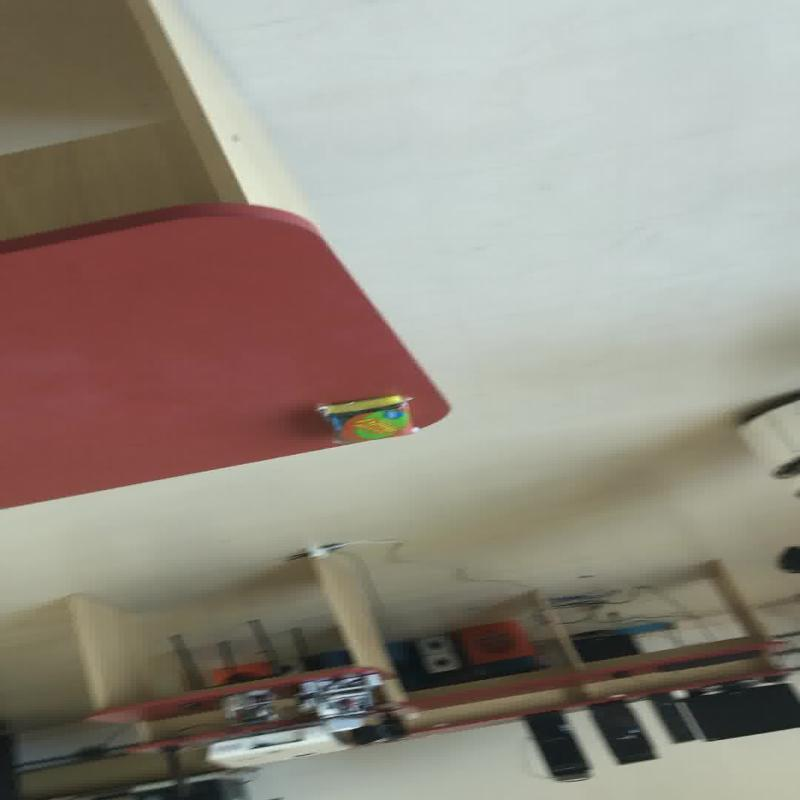sponge: (1, 200, 451, 508), (314, 393, 416, 445)
